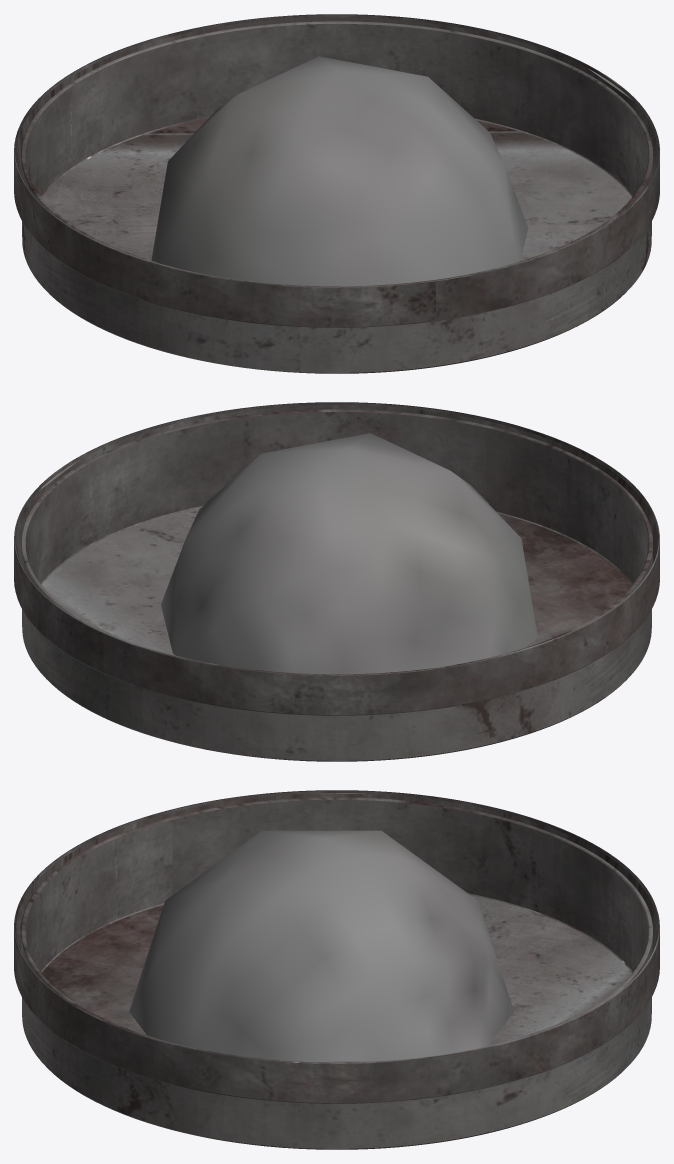
The model's file is Ash.glb.
3 renders of one model, top to bottom at view 1: azimuth 30°, elevation 25°; view 2: azimuth 150°, elevation 25°; view 3: azimuth 270°, elevation 25°, orthographic.
Parts seen in each view (by area): view 1: Ash; view 2: Ash; view 3: Ash.
Part boxes in pixels (<box>): Ash: <box>14,14,659,373</box>; Ash: <box>14,402,659,761</box>; Ash: <box>14,790,659,1149</box>.
Size of the model in its own units: 0.295 by 0.0886 by 0.295.
Materials: 1 (1 with a texture image).
